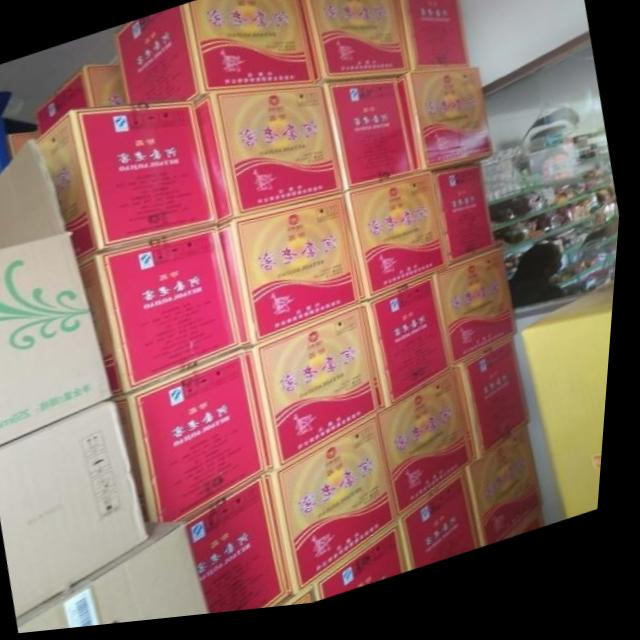box: (0, 145, 119, 448), (0, 407, 156, 619), (35, 107, 220, 264), (122, 353, 275, 528), (84, 233, 242, 396), (272, 424, 405, 601), (247, 314, 387, 474), (222, 201, 368, 352), (114, 0, 318, 108), (192, 92, 344, 232), (29, 527, 214, 634), (185, 479, 297, 619), (381, 377, 479, 526), (346, 182, 450, 309), (369, 284, 457, 417), (322, 87, 423, 199), (297, 0, 410, 87), (437, 257, 520, 374), (410, 77, 496, 181), (476, 439, 551, 556), (461, 350, 535, 468), (407, 481, 491, 577), (321, 530, 418, 606), (432, 173, 499, 274), (34, 66, 130, 135), (393, 0, 470, 80), (282, 592, 322, 614)
